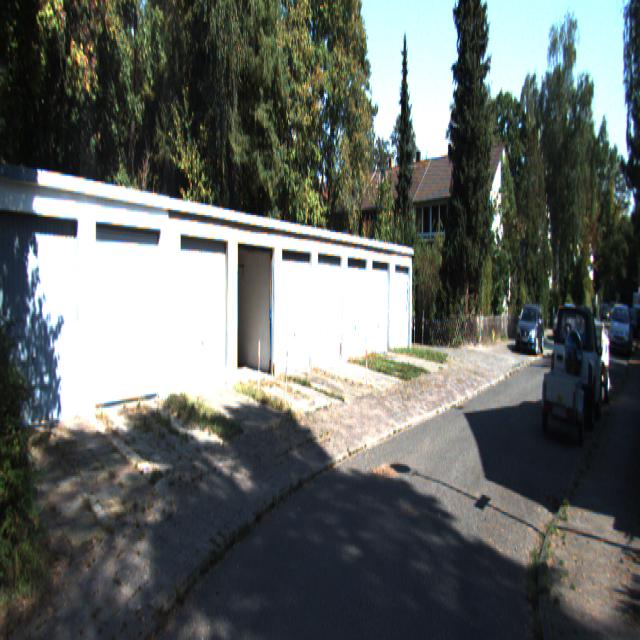Car: (552, 301, 605, 428), (542, 356, 582, 432), (514, 303, 544, 356)
